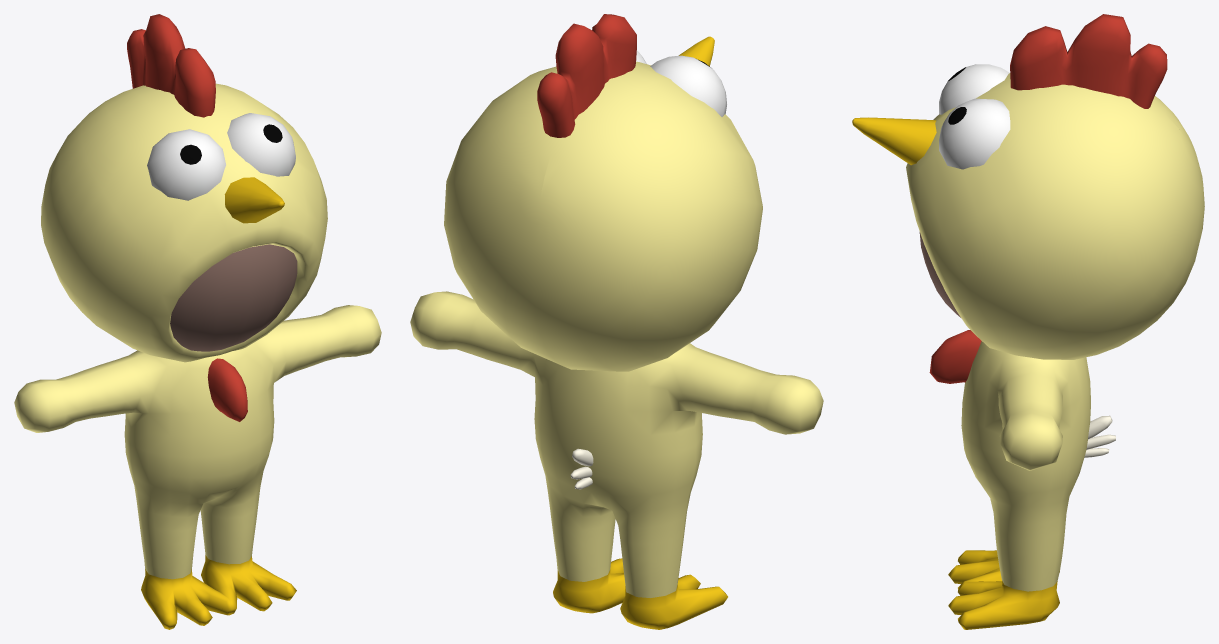
File: hen_cloth.fbx
3 renders of one model, left to right at view 1: azimuth 30°, elevation 25°; view 2: azimuth 150°, elevation 25°; view 3: azimuth 270°, elevation 25°, orthographic. The views are drawn at different scales.
Visible parts, largest first — view 1: Hen_clth, Client; view 2: Hen_clth; view 3: Hen_clth, Client.
Part boxes in pixels (<box>): Hen_clth: <box>14,14,381,629</box>; Client: <box>170,244,297,351</box>; Hen_clth: <box>410,14,823,629</box>; Hen_clth: <box>852,14,1204,629</box>; Client: <box>919,232,960,317</box>.
Size of the model in its own units: 225 by 331 by 182.
